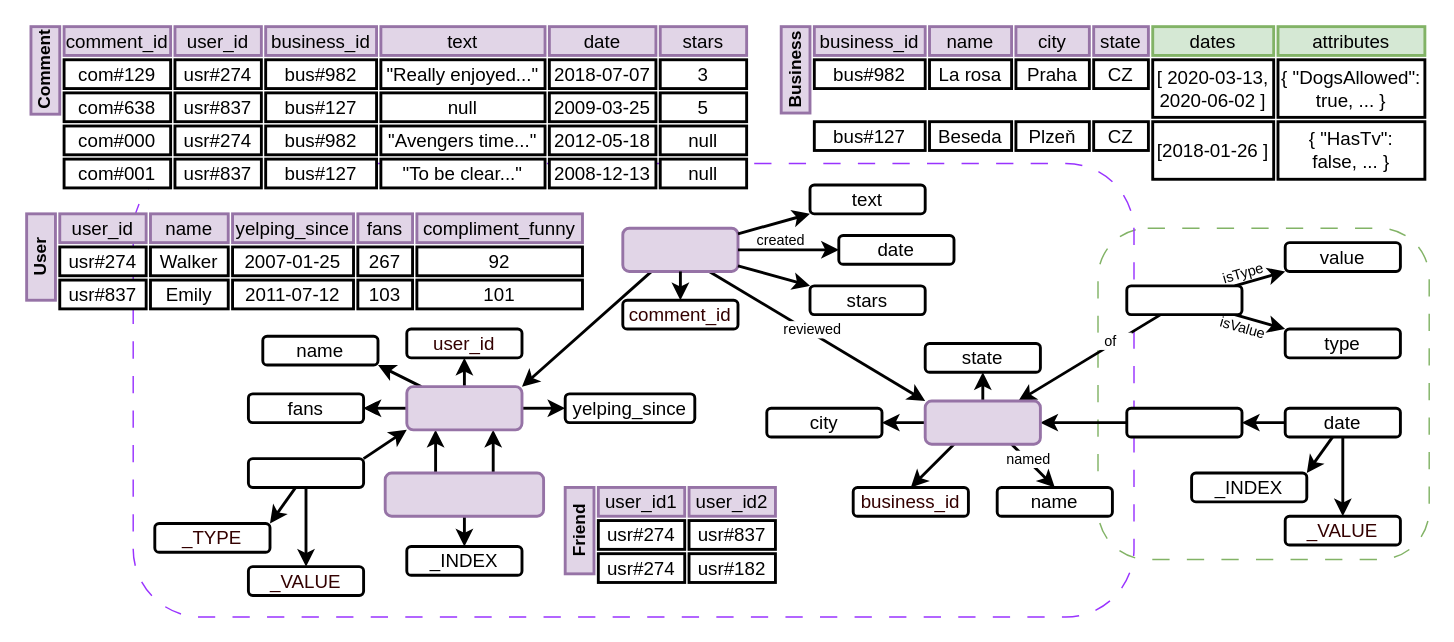
This 1454x642 diagram has some shape labels left out. Each missing label, with the box of its shape:
attribute: (1125, 284, 1243, 315)
Business {business_id}: (923, 399, 1041, 445)
checkin: (1125, 406, 1243, 438)
Comment {comment_id}: (621, 226, 739, 272)
compliment: (246, 456, 364, 488)
Friend {user_id, user_id}: (383, 471, 544, 517)
User {user_id}: (405, 384, 523, 431)
